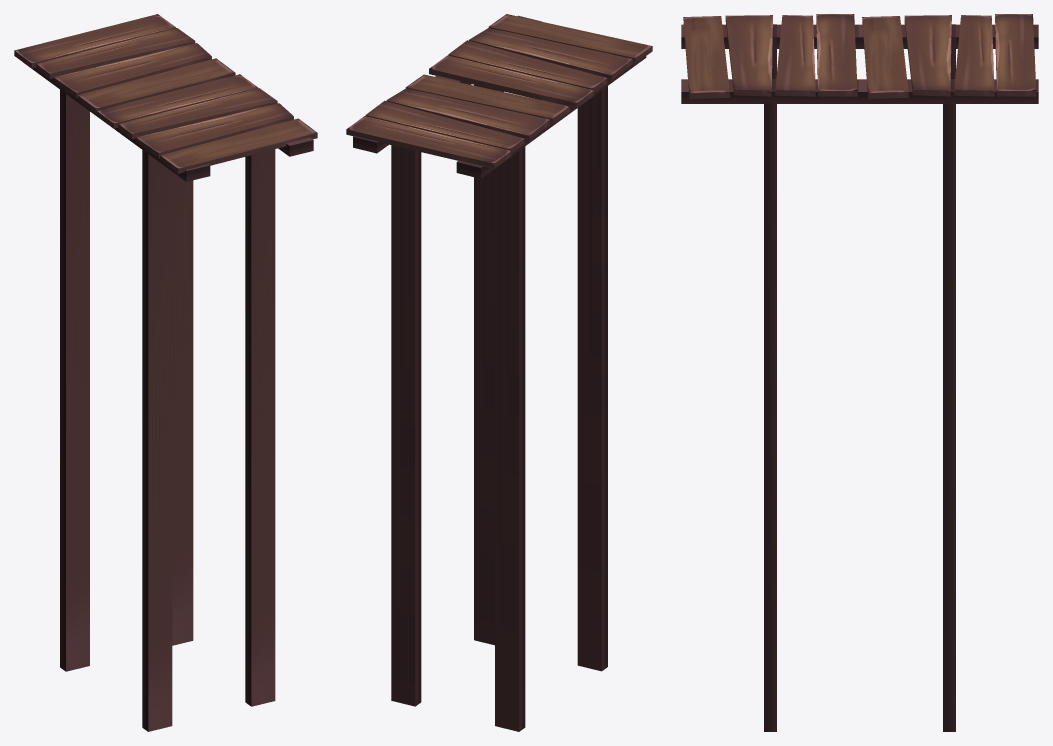
File: bridge_1.gltf
3 views of the same model, side by side, from view 1: azimuth 30°, elevation 25°; view 2: azimuth 150°, elevation 25°; view 3: azimuth 270°, elevation 25° (orthographic). The views are drawn at different scales.
Visible parts, largest first — view 1: Bridge1; view 2: Bridge1; view 3: Bridge1.
Part boxes in pixels (x1,y1,x2,y2): Bridge1: [14, 14, 317, 731]; Bridge1: [346, 14, 652, 731]; Bridge1: [681, 14, 1038, 731].
Size of what is drawn, in the model's own units: 1.02 by 3.99 by 2.
Materials: 1 (1 with a texture image).
